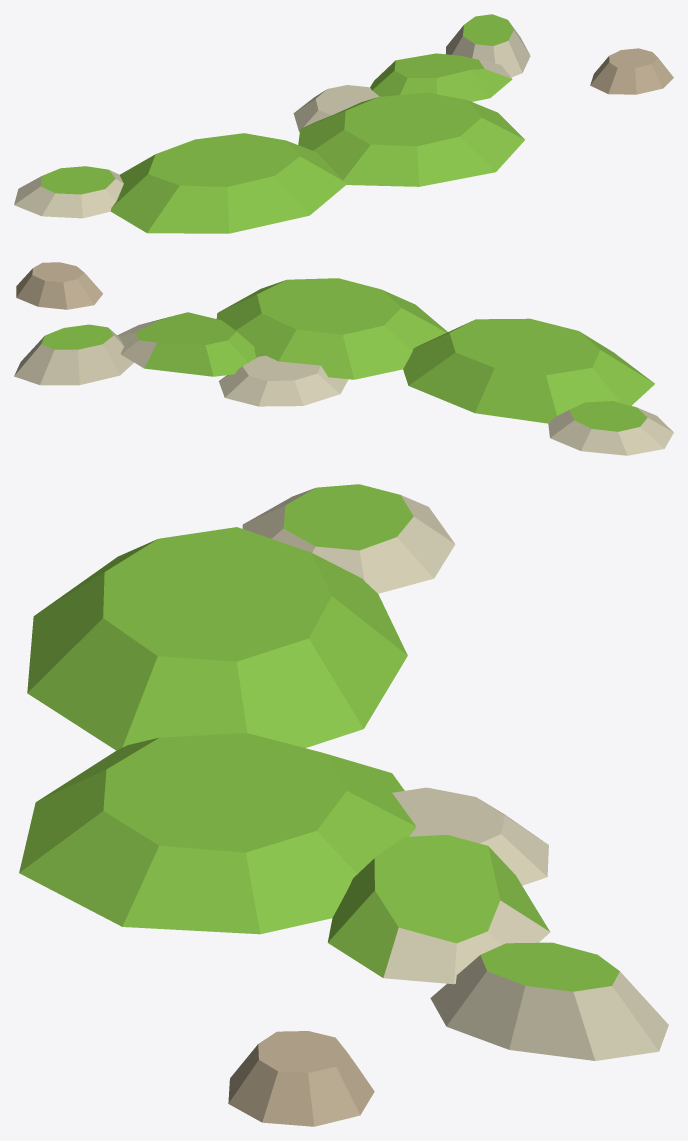
The model's file is islands.glb.
The picture shows the model from 3 angles, top to bottom: view 1: azimuth 30°, elevation 25°; view 2: azimuth 150°, elevation 25°; view 3: azimuth 270°, elevation 25°; orthographic projection. The views are drawn at different scales.
Visible parts, largest first — view 1: FGleft, Front, Conn1, ShoreIs, Conn2, DockIsle, BackIs.001; view 2: FGleft, Front, Conn1, Conn2, ShoreIs, BackIs.001, DockIsle; view 3: FGleft, Front, Conn1, Conn2, ShoreIs, DockIsle, BackIs.001.
Boxes of the visible parts, x1=… form: FGleft: x1=110, y1=133, x2=345, y2=233; Front: x1=298, y1=92, x2=524, y2=186; Conn1: x1=370, y1=53, x2=512, y2=101; ShoreIs: x1=14, y1=166, x2=123, y2=218; Conn2: x1=446, y1=14, x2=530, y2=77; DockIsle: x1=590, y1=48, x2=673, y2=94; BackIs.001: x1=293, y1=85, x2=379, y2=132; FGleft: x1=403, y1=318, x2=654, y2=423; Front: x1=216, y1=278, x2=447, y2=379; Conn1: x1=117, y1=312, x2=256, y2=376; Conn2: x1=14, y1=324, x2=133, y2=385; ShoreIs: x1=548, y1=401, x2=673, y2=455; BackIs.001: x1=218, y1=355, x2=348, y2=406; DockIsle: x1=16, y1=262, x2=102, y2=309; FGleft: x1=27, y1=527, x2=407, y2=750; Front: x1=19, y1=733, x2=416, y2=934; Conn1: x1=327, y1=835, x2=550, y2=984; Conn2: x1=430, y1=942, x2=668, y2=1060; ShoreIs: x1=242, y1=484, x2=455, y2=593; DockIsle: x1=228, y1=1031, x2=374, y2=1126; BackIs.001: x1=392, y1=787, x2=548, y2=885.
Bounding box in the file's own units: 67.15 × 4.17 × 29.61.
